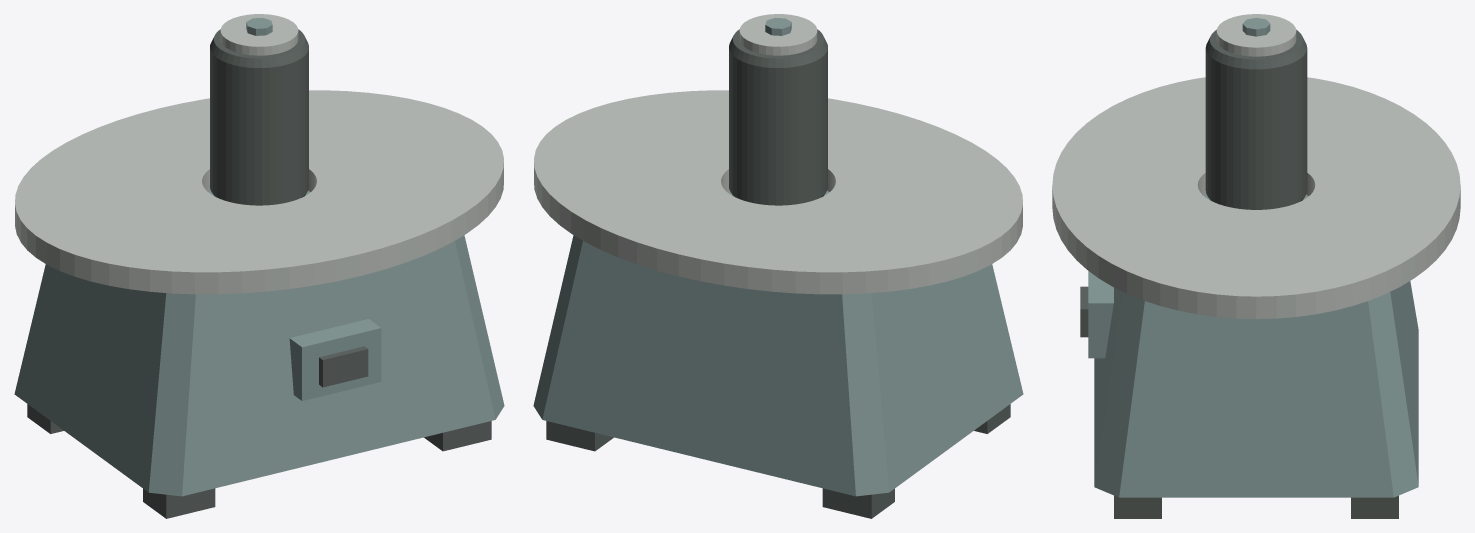
The picture shows the model from 3 angles, left to right: view 1: azimuth 30°, elevation 25°; view 2: azimuth 150°, elevation 25°; view 3: azimuth 270°, elevation 25°; orthographic projection. The views are drawn at different scales.
Visible parts, largest first — view 1: WholeTaperSidedMachineCase, WholeOvalThroughBoredWorktable, WholeUprightSandingDrumExterior, WholeFrontSwitchHousing, WholeUpperDrumCap, WholeBlankSwitchRocker, WholeGroundFoot(-0.164, -0.119), WholeGroundFoot(0.164, -0.119); view 2: WholeTaperSidedMachineCase, WholeOvalThroughBoredWorktable, WholeUprightSandingDrumExterior, WholeUpperDrumCap, WholeGroundFoot(-0.164, 0.119), WholeGroundFoot(0.164, 0.119); view 3: WholeOvalThroughBoredWorktable, WholeTaperSidedMachineCase, WholeUprightSandingDrumExterior, WholeUpperDrumCap, WholeFrontSwitchHousing, WholeGroundFoot(0.164, -0.119), WholeGroundFoot(0.164, 0.119), WholeBlankSwitchRocker.
Boxes of the visible parts, x1,y1,x2,y2 form: WholeTaperSidedMachineCase: (14,190,504,496); WholeOvalThroughBoredWorktable: (15,90,503,294); WholeUprightSandingDrumExterior: (210,29,308,205); WholeFrontSwitchHousing: (289,319,381,400); WholeUpperDrumCap: (220,14,298,55); WholeBlankSwitchRocker: (319,346,368,387); WholeGroundFoot(-0.164, -0.119): (143,488,215,518); WholeGroundFoot(0.164, -0.119): (424,421,491,451); WholeTaperSidedMachineCase: (533,190,1023,496); WholeOvalThroughBoredWorktable: (534,90,1022,294); WholeUprightSandingDrumExterior: (729,29,827,205); WholeUpperDrumCap: (739,14,817,55); WholeGroundFoot(-0.164, 0.119): (822,488,894,518); WholeGroundFoot(0.164, 0.119): (546,421,613,451); WholeOvalThroughBoredWorktable: (1052,77,1460,319); WholeTaperSidedMachineCase: (1094,194,1418,497); WholeUprightSandingDrumExterior: (1205,29,1307,209); WholeUpperDrumCap: (1216,14,1296,56); WholeFrontSwitchHousing: (1088,271,1113,358); WholeGroundFoot(0.164, -0.119): (1114,495,1161,518); WholeGroundFoot(0.164, 0.119): (1351,495,1398,518); WholeBlankSwitchRocker: (1080,286,1088,337).
Bounding box in the file's own units: 0.53 × 0.459 × 0.41.
